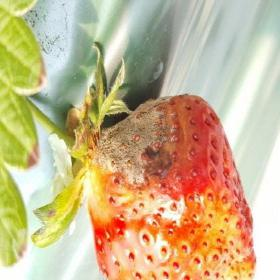Gray Mold: (84, 95, 191, 193)
